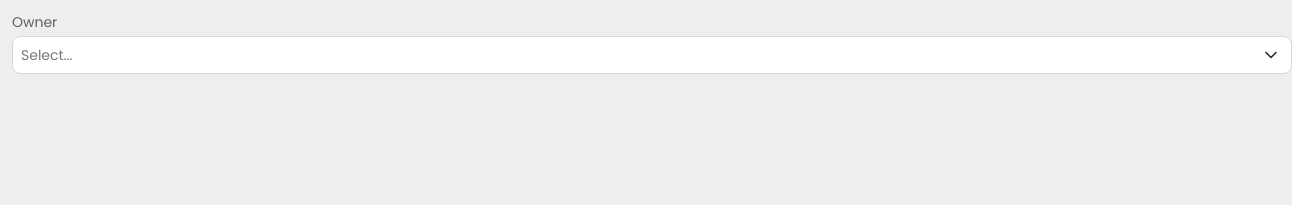
people and pictures in the combo box › falls back to initials when the picture cannot be signed
Click the dropdown labelled "Owner" at [634, 55], box [21,44,1247,66]
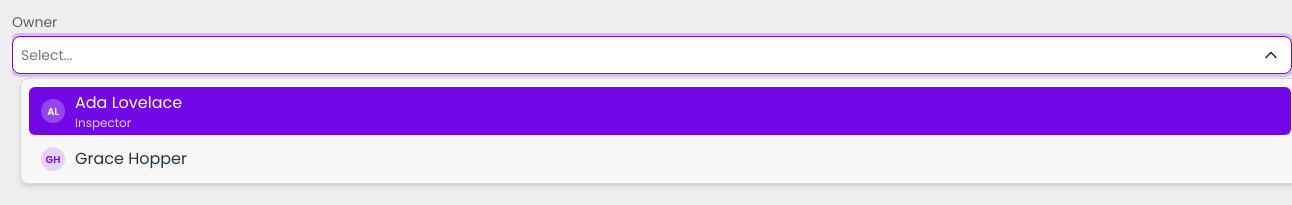
Check: the text "GH" is shown, box [41,147,65,171]
